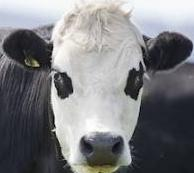muzzles: (76, 130, 125, 168)
